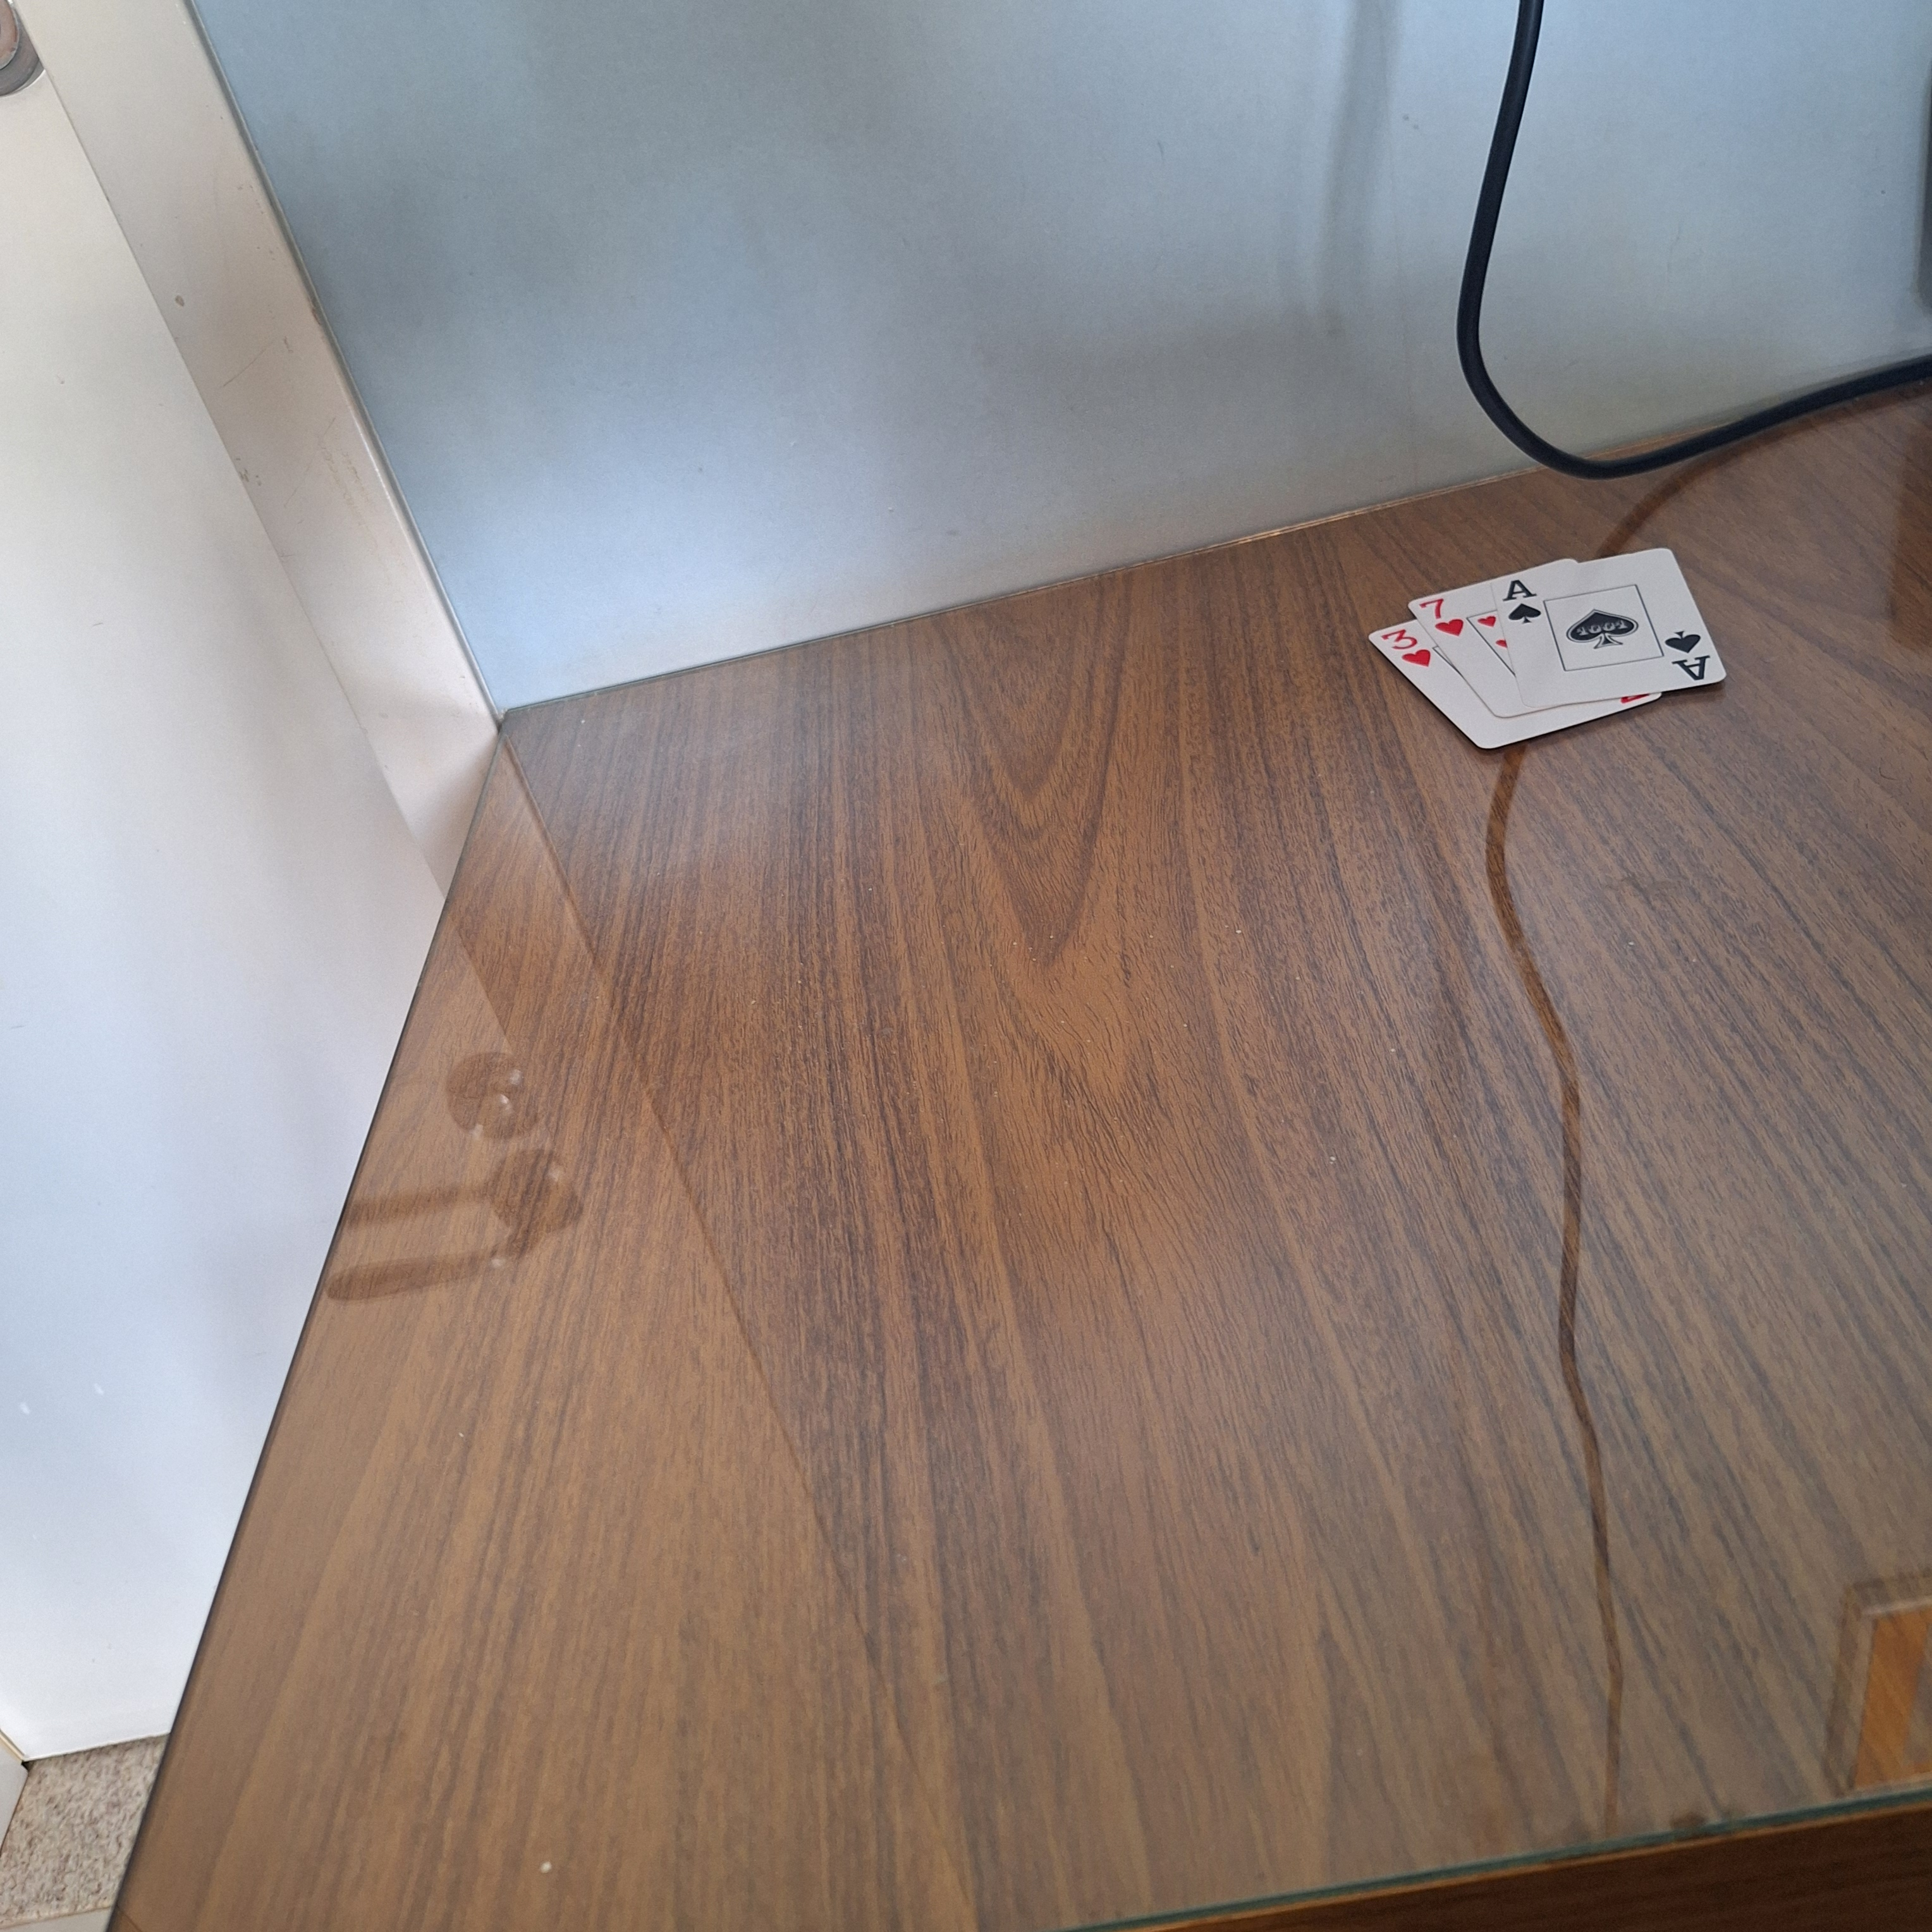3C: (1373, 619, 1433, 671)
7C: (1417, 593, 1468, 642)
AE: (1661, 623, 1714, 685), (1499, 573, 1543, 630)
